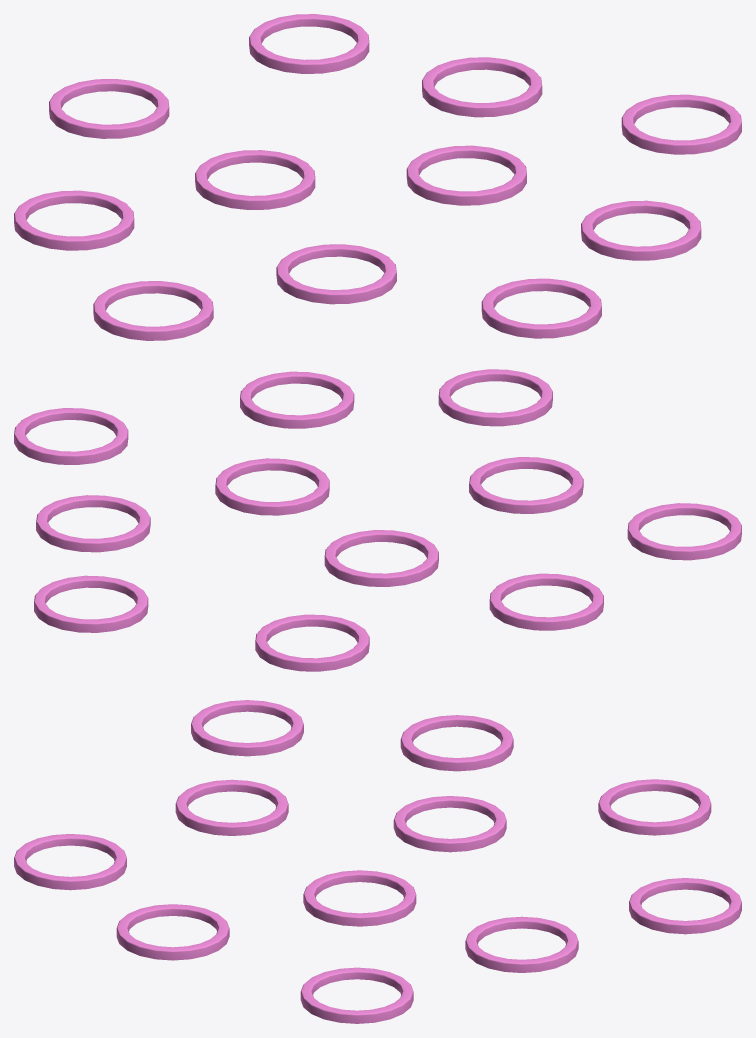
The model's file is onion.glb.
3 renders of one model, top to bottom at view 1: azimuth 30°, elevation 25°; view 2: azimuth 150°, elevation 25°; view 3: azimuth 270°, elevation 25°, orthographic. The views are drawn at different scales.
Parts seen in each view (by area): view 1: onion12; view 2: onion12; view 3: onion12.
Part boxes in pixels (x1,y1,x2,y2): onion12: [14, 14, 741, 340]; onion12: [14, 369, 741, 671]; onion12: [14, 700, 741, 1023].
Size of the model in its own units: 0.3235 by 0.00446 by 0.3156.
